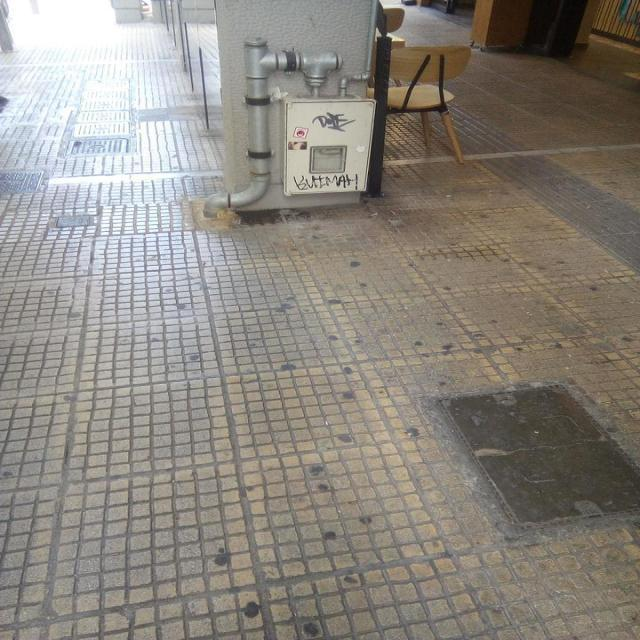nonspitting: (292, 173, 359, 190), (312, 111, 357, 132)
